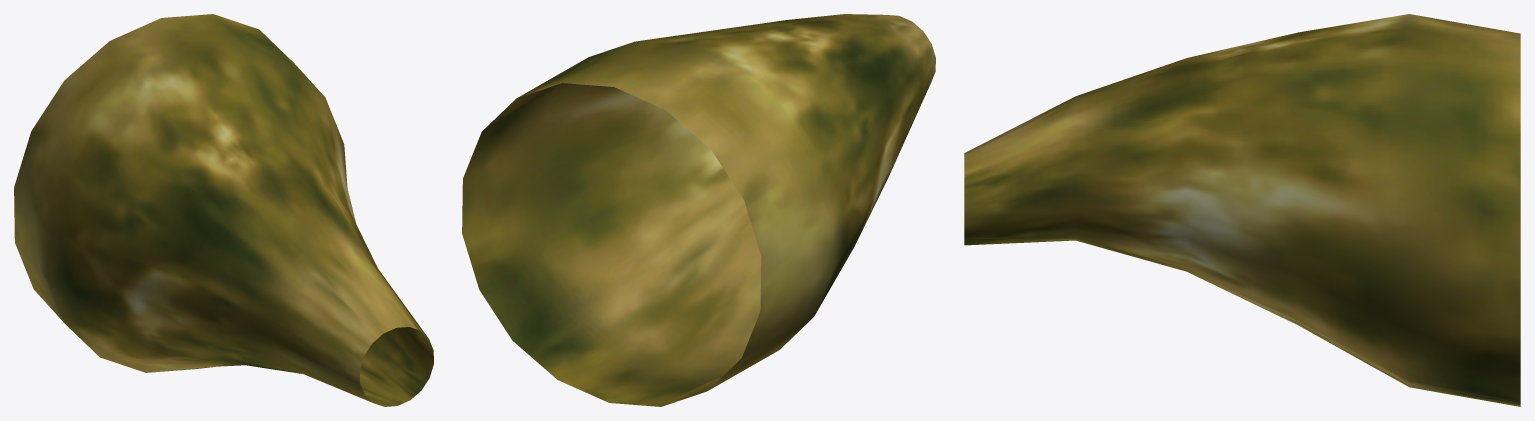
Rendered from tdr_z_storm_a.obj.
3 views of the same model, side by side, from view 1: azimuth 30°, elevation 25°; view 2: azimuth 150°, elevation 25°; view 3: azimuth 270°, elevation 25° (orthographic). The views are drawn at different scales.
Parts seen in each view (by area): view 1: tdr_z_storm_a.001; view 2: tdr_z_storm_a.001; view 3: tdr_z_storm_a.001.
Part boxes in pixels (box(x1,y1,x2,y2)): tdr_z_storm_a.001: box(14, 14, 433, 406); tdr_z_storm_a.001: box(462, 14, 935, 406); tdr_z_storm_a.001: box(964, 14, 1520, 406).
Bounding box in the file's own units: 20972 × 20399 × 29552.
Materials: 1 (1 with a texture image).
